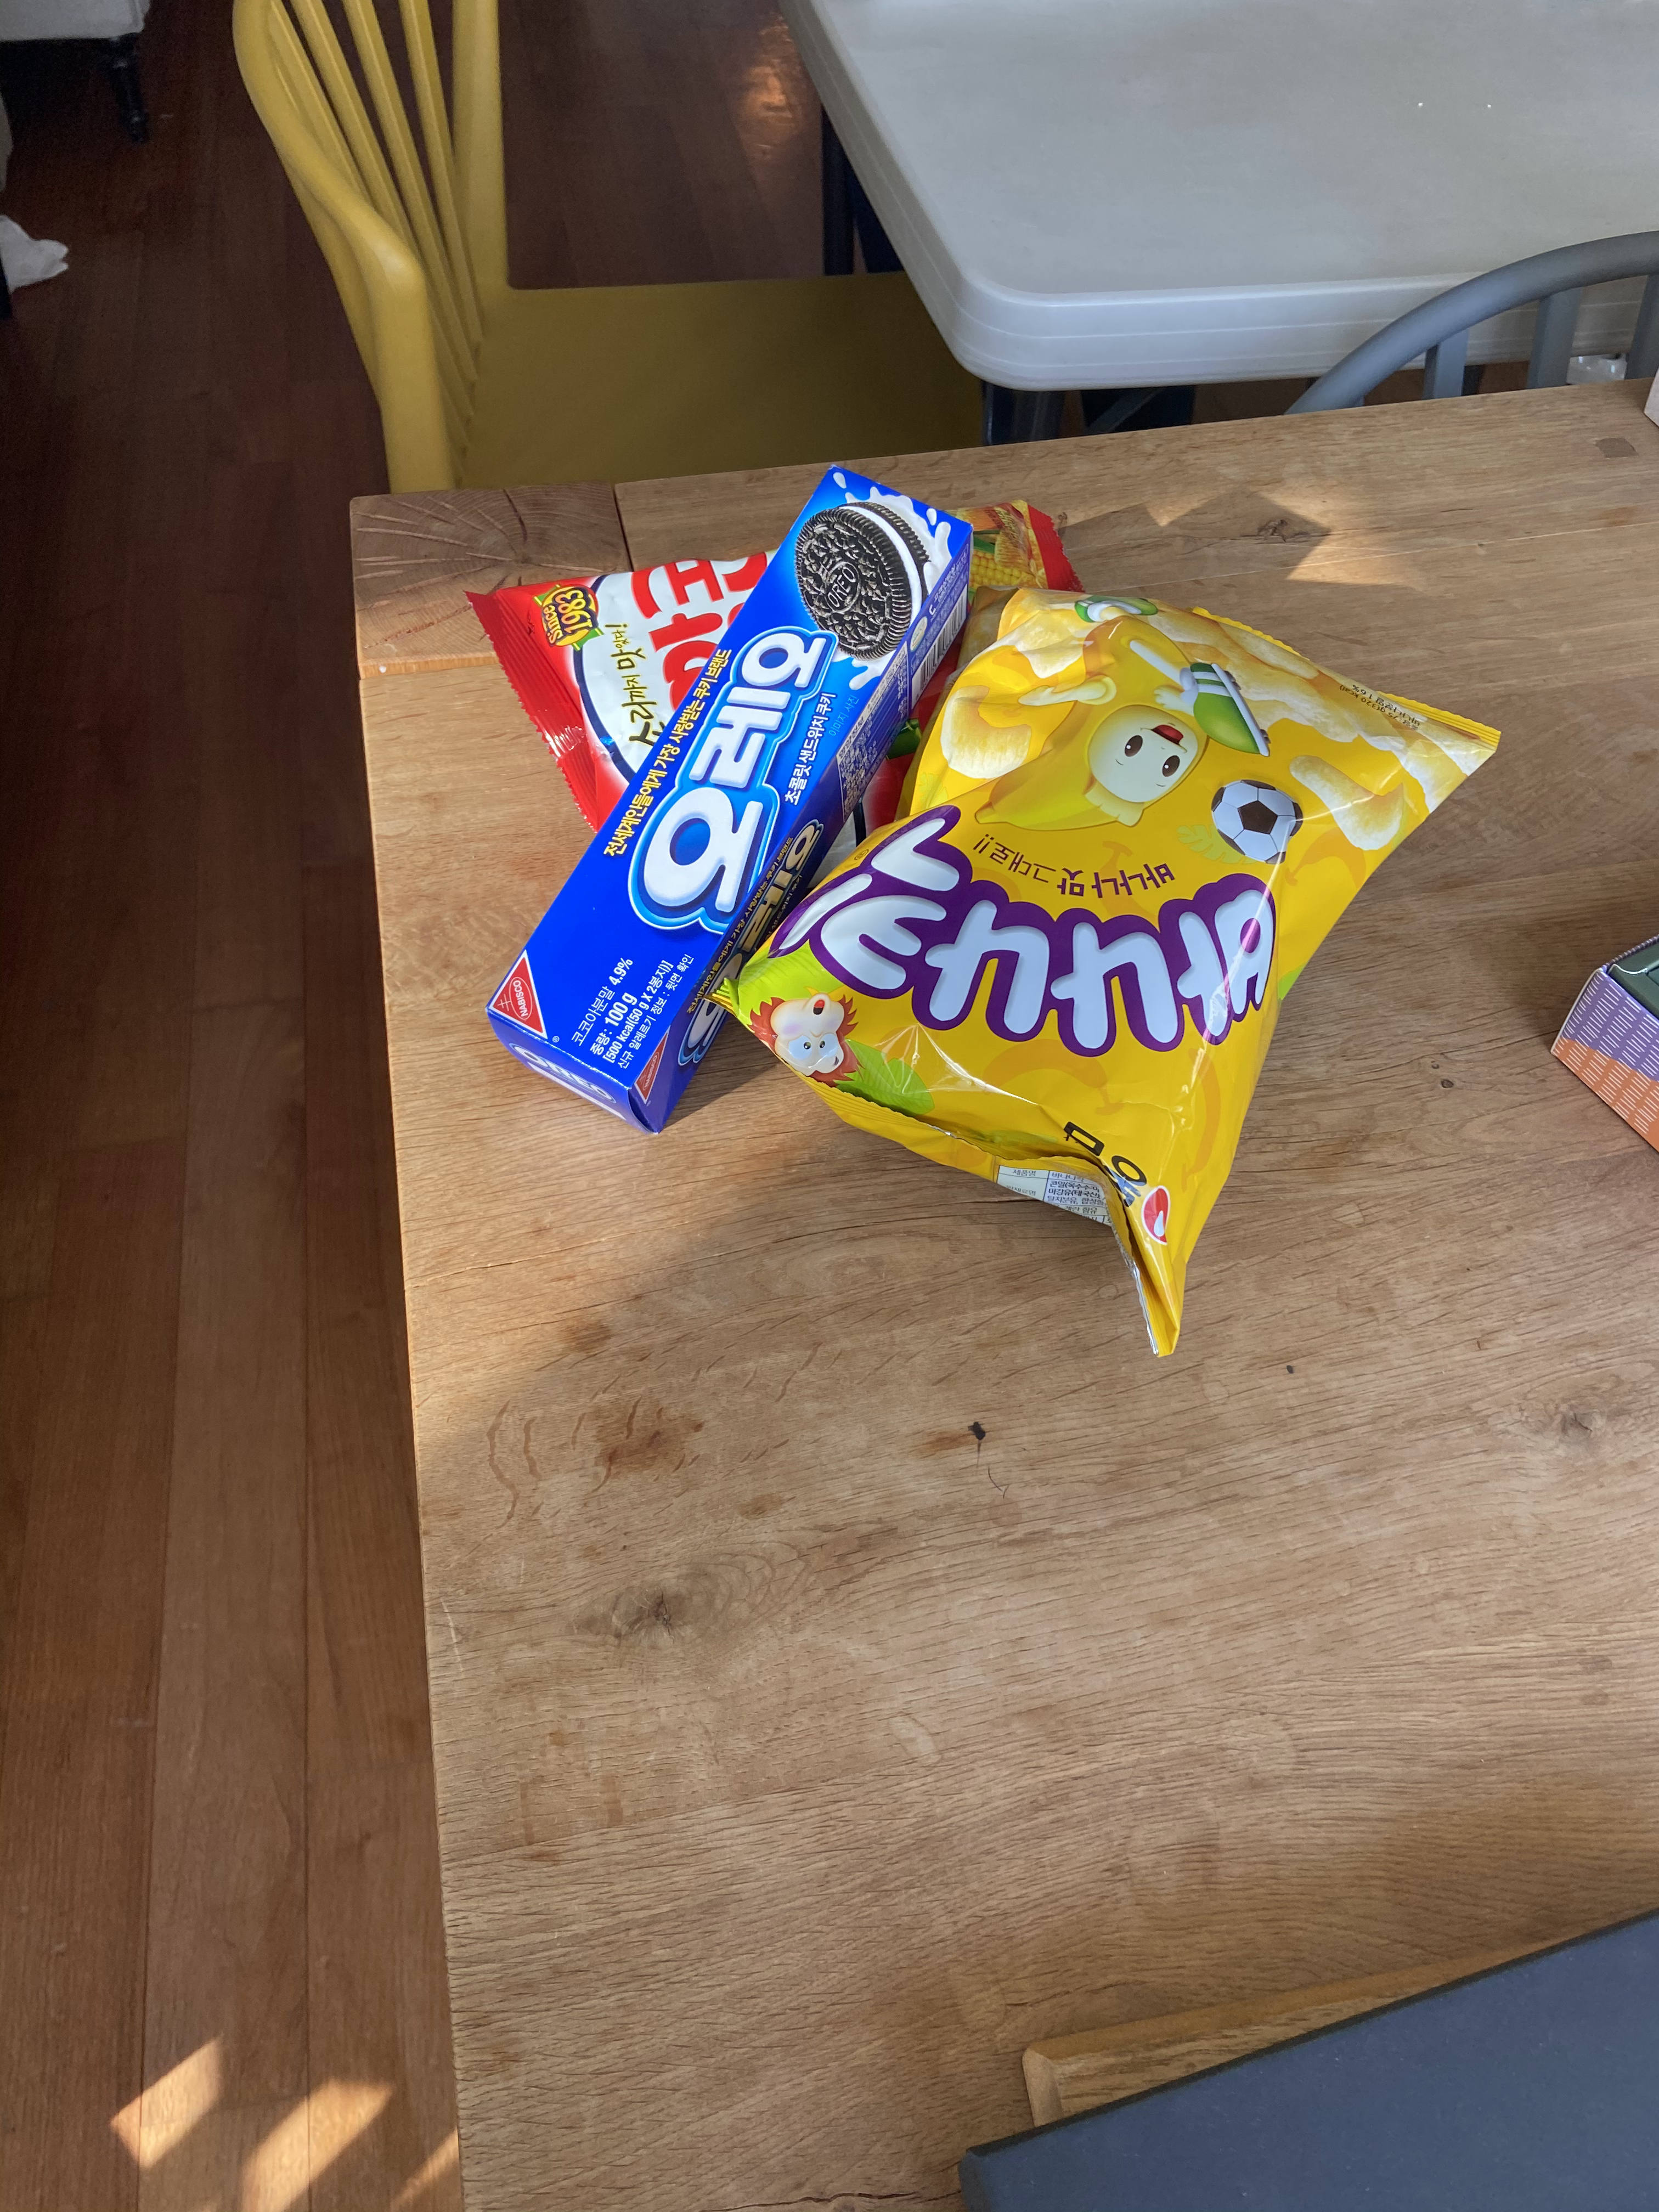banana: (706, 566, 1527, 1397)
ggoggalcon: (422, 475, 1105, 878)
oreo: (476, 453, 988, 1170)
